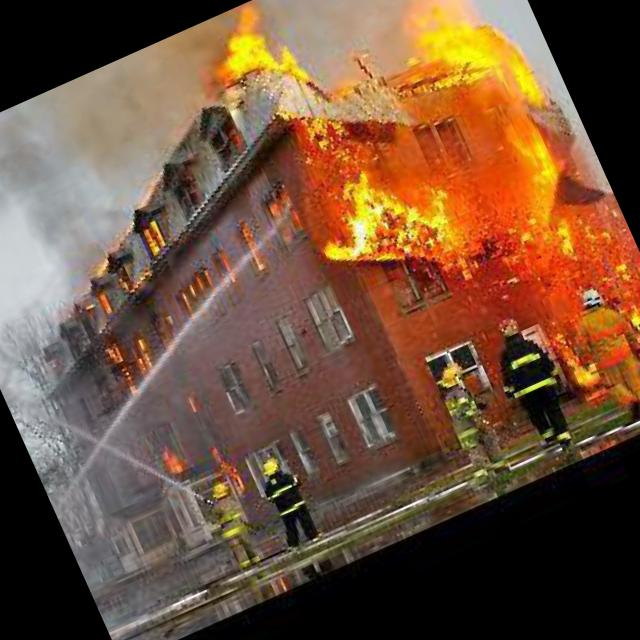fire: (280, 83, 638, 374), (365, 0, 559, 149), (181, 0, 314, 124), (152, 419, 252, 519), (530, 289, 604, 399), (592, 249, 640, 352), (94, 320, 156, 394), (124, 210, 182, 265), (230, 216, 276, 283), (174, 276, 222, 315)
smoke: (0, 32, 255, 330)
